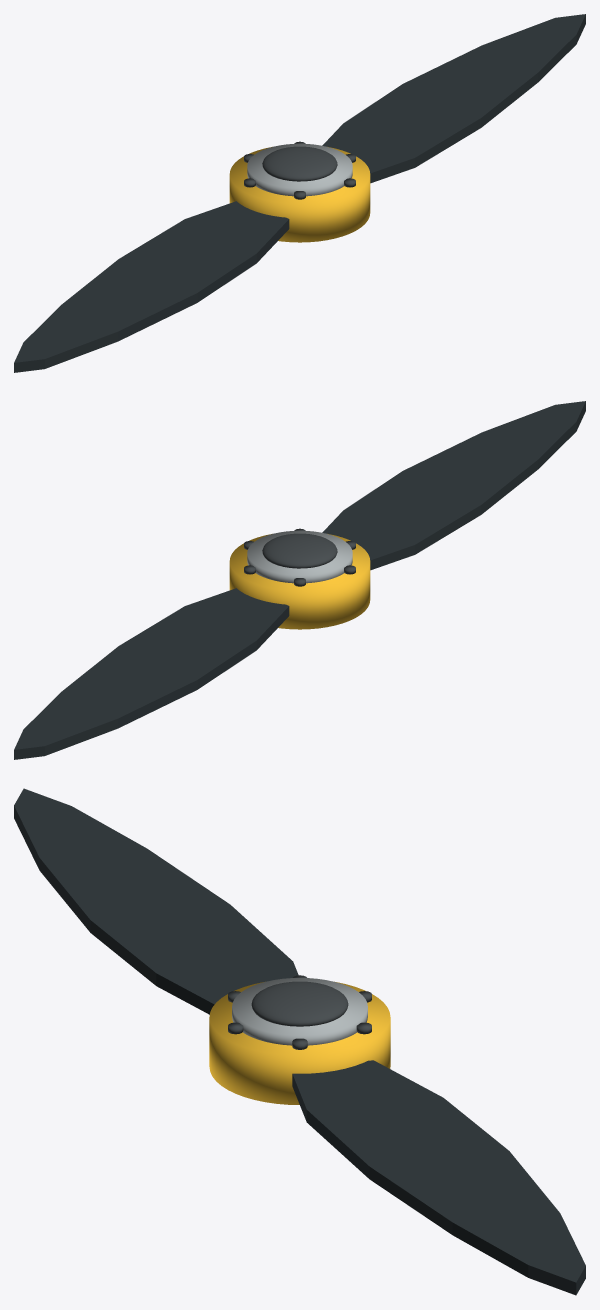
The model's file is elice_drone.glb.
The picture shows the model from 3 angles, top to bottom: view 1: azimuth 30°, elevation 25°; view 2: azimuth 210°, elevation 25°; view 3: azimuth 270°, elevation 25°; orthographic projection. The views are drawn at different scales.
Parts seen in each view (by area): view 1: Helice_Agricola_Pa_02, Helice_Agricola_Pa_01, Helice_Agricola_Cubo, Helice_Agricola_Tampa_Central, Helice_Agricola_Acabamento_Central; view 2: Helice_Agricola_Pa_01, Helice_Agricola_Pa_02, Helice_Agricola_Cubo, Helice_Agricola_Tampa_Central, Helice_Agricola_Acabamento_Central; view 3: Helice_Agricola_Pa_01, Helice_Agricola_Pa_02, Helice_Agricola_Cubo, Helice_Agricola_Tampa_Central, Helice_Agricola_Acabamento_Central.
Boxes of the visible parts, <box> form: Helice_Agricola_Pa_02: <box>14,201,289,372</box>; Helice_Agricola_Pa_01: <box>322,14,585,183</box>; Helice_Agricola_Cubo: <box>229,146,370,242</box>; Helice_Agricola_Tampa_Central: <box>247,143,352,196</box>; Helice_Agricola_Acabamento_Central: <box>262,146,337,181</box>; Helice_Agricola_Pa_01: <box>14,588,289,759</box>; Helice_Agricola_Pa_02: <box>322,401,585,570</box>; Helice_Agricola_Cubo: <box>229,533,370,629</box>; Helice_Agricola_Tampa_Central: <box>247,530,352,583</box>; Helice_Agricola_Acabamento_Central: <box>262,533,337,568</box>; Helice_Agricola_Pa_01: <box>292,1060,585,1295</box>; Helice_Agricola_Pa_02: <box>14,788,298,1014</box>; Helice_Agricola_Cubo: <box>209,981,390,1104</box>; Helice_Agricola_Tampa_Central: <box>232,978,367,1045</box>; Helice_Agricola_Acabamento_Central: <box>251,981,348,1026</box>.
Bounding box in the file's own units: 1.81 × 0.1245 × 0.8845.
